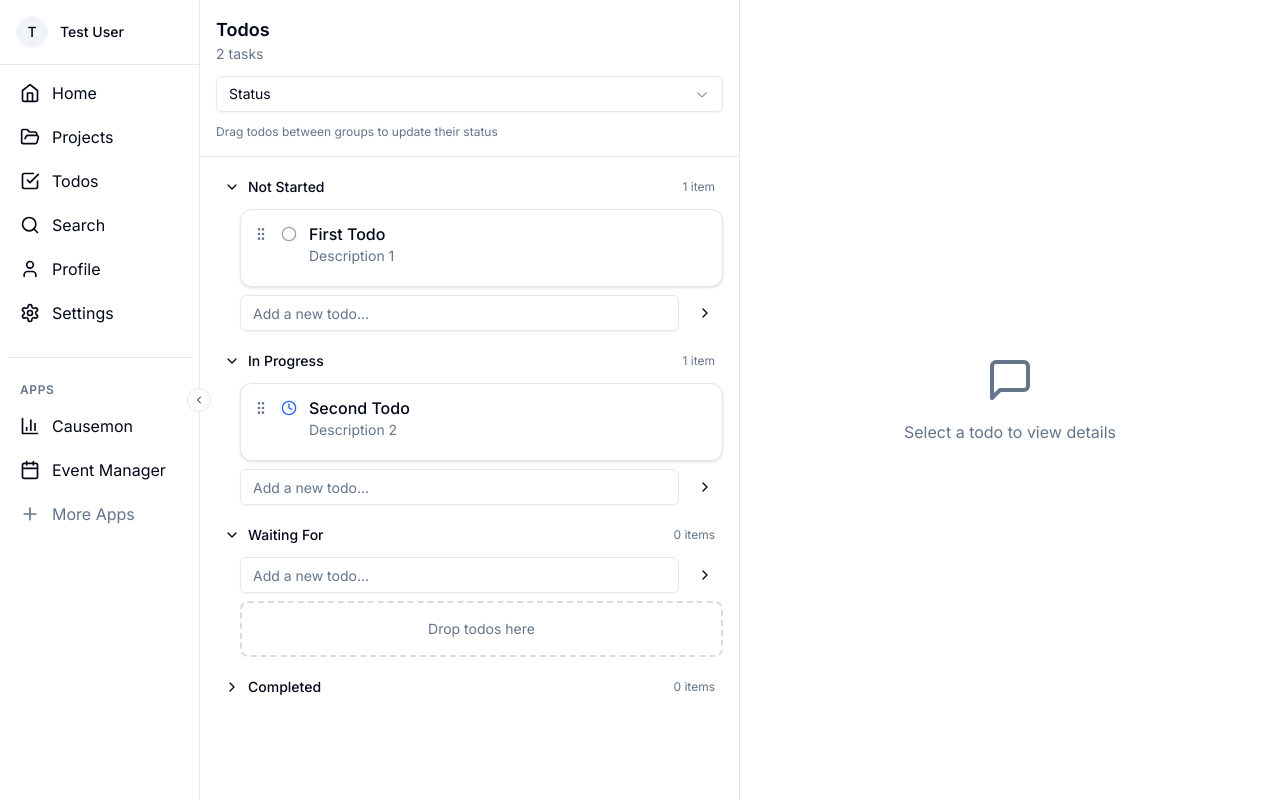
Test: TodosPage Integration › displays todo details when a todo is selected
What coordinates should you click on to do the following:
click the heading "First Todo"
I would click on:
 (347, 234)
Its box is [309,224,385,244].
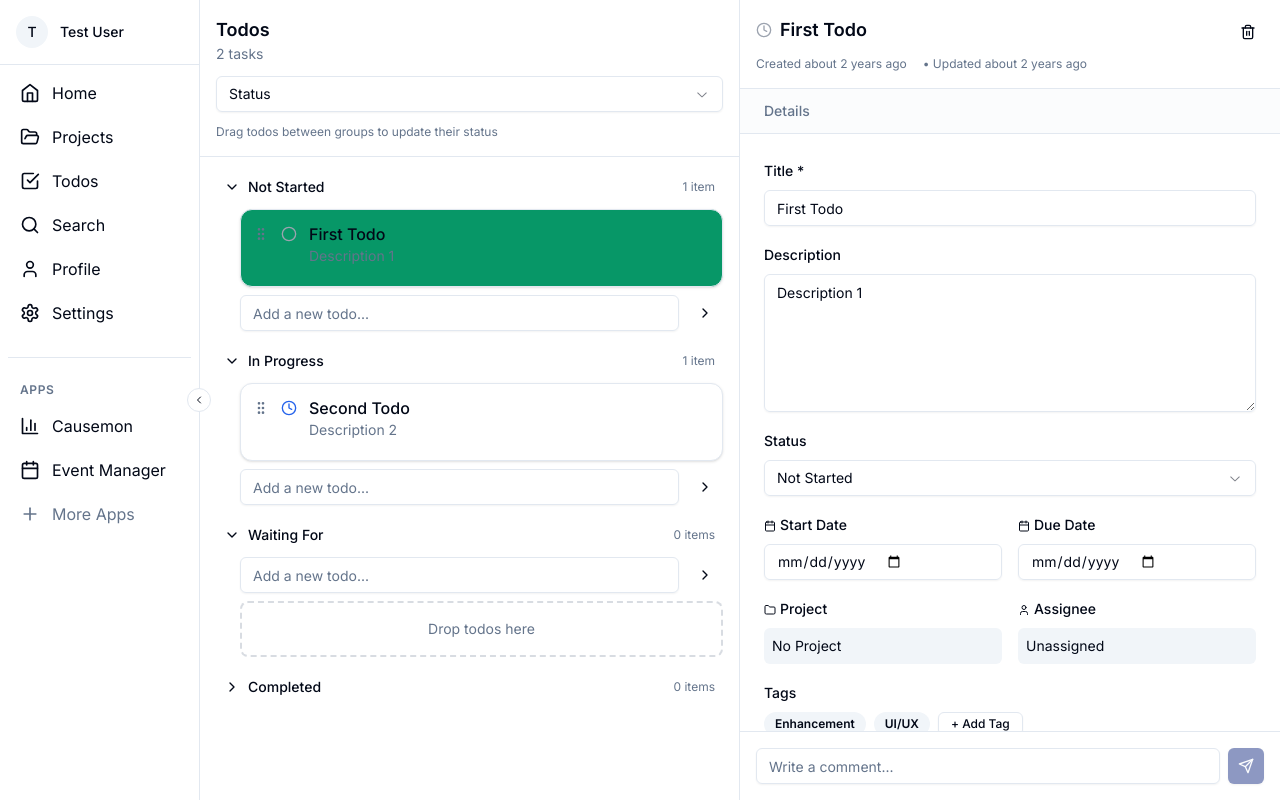
Expected: the field showing "First Todo" is shown, [764,190,1256,226]
Expected: the text box showing "Description 1" is shown, [764,274,1256,412]
